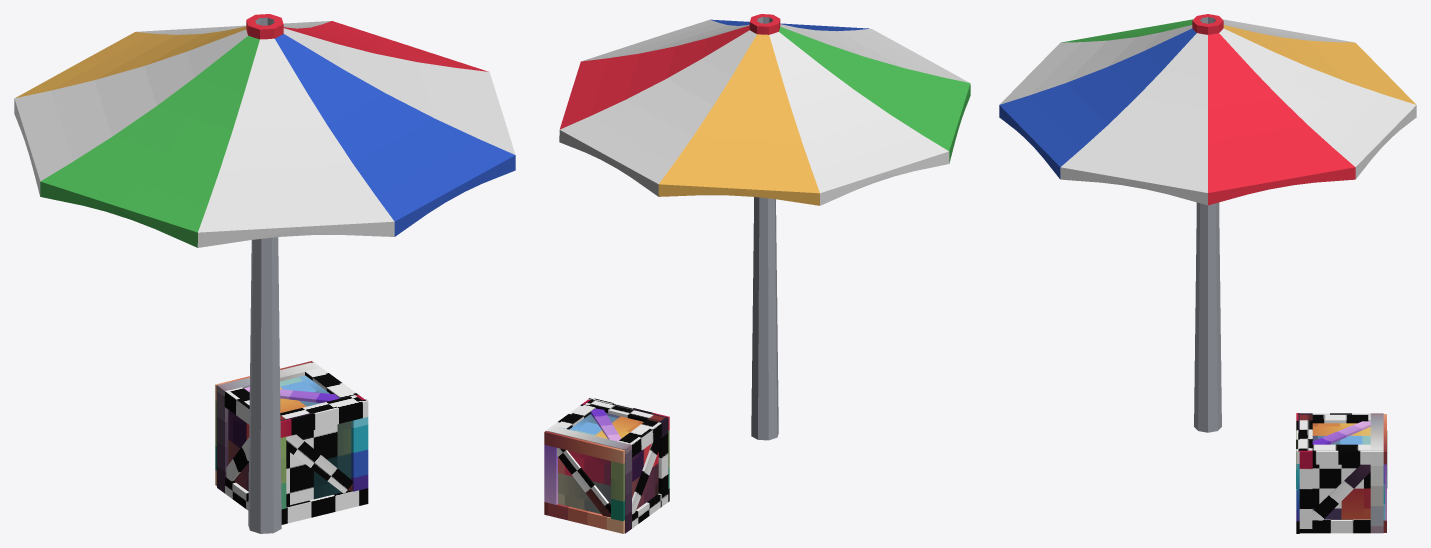
File: Box dan payung.fbx
3 views of the same model, side by side, from view 1: azimuth 30°, elevation 25°; view 2: azimuth 150°, elevation 25°; view 3: azimuth 270°, elevation 25° (orthographic). The views are drawn at different scales.
Visible parts, largest first — view 1: Circle.001, Caisse.003; view 2: Circle.001, Caisse.003; view 3: Circle.001, Caisse.003.
Boxes of the visible parts, x1,y1,x2,y2 form: Circle.001: [14, 14, 515, 533]; Caisse.003: [215, 361, 368, 524]; Circle.001: [559, 14, 970, 440]; Caisse.003: [544, 397, 669, 533]; Circle.001: [999, 14, 1416, 432]; Caisse.003: [1296, 413, 1387, 533].
Bounding box in the file's own units: 464 × 554 × 464.
